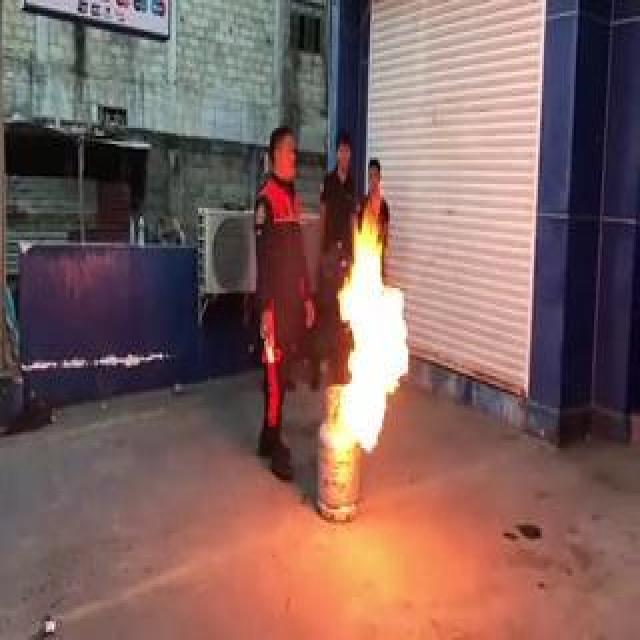Smoke: (320, 160, 412, 456)
